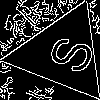S: (37, 28, 97, 77)
